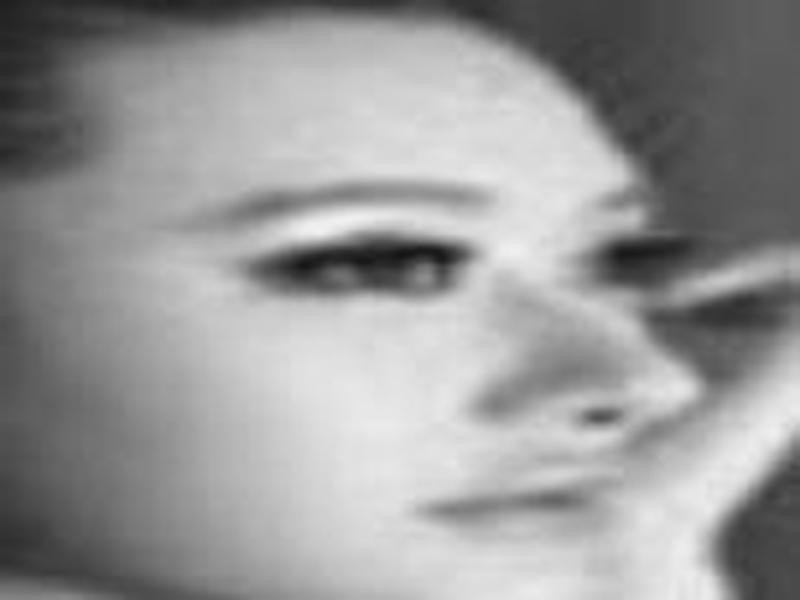without_mask: (10, 12, 708, 600)
